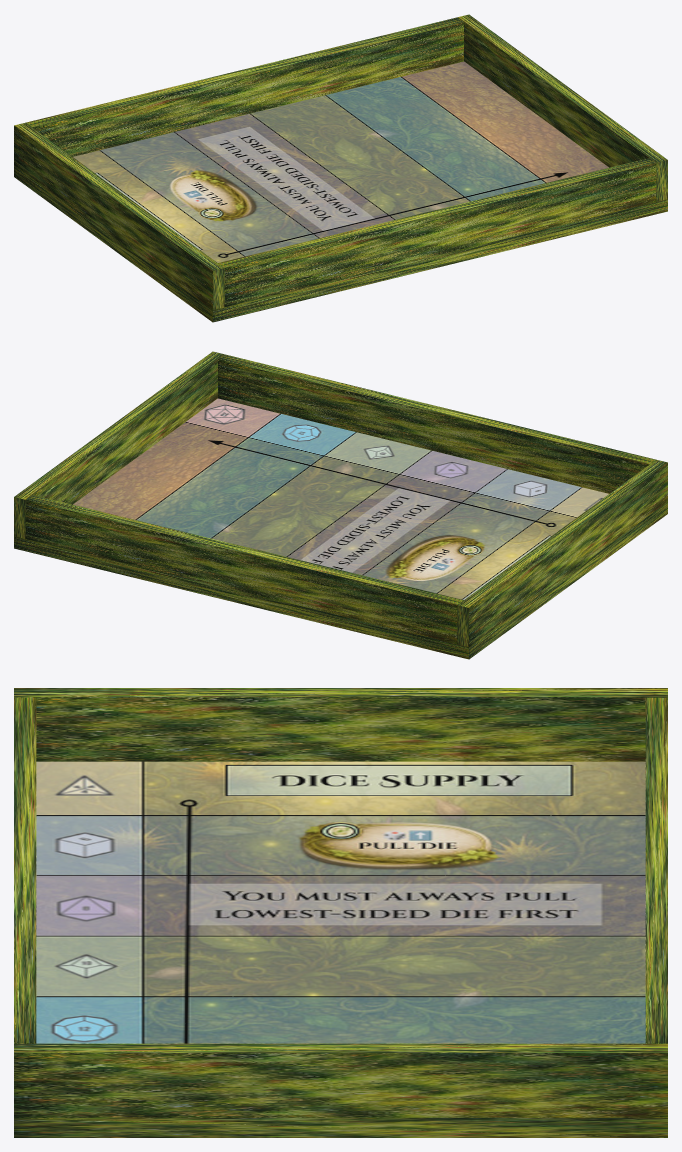
File: Player_Box_Base.obj
3 views of the same model, one above another, from view 1: azimuth 30°, elevation 25°; view 2: azimuth 150°, elevation 25°; view 3: azimuth 270°, elevation 25° (orthographic). The views are drawn at different scales.
Parts seen in each view (by area): view 1: Player_Box_Base; view 2: Player_Box_Base; view 3: Player_Box_Base.
Part boxes in pixels (left/top/right/bottom): Player_Box_Base: left=14, top=14, right=667, bottom=322; Player_Box_Base: left=14, top=351, right=667, bottom=659; Player_Box_Base: left=14, top=688, right=667, bottom=1137.
Size of the model in its own units: 6.75 by 0.73 by 5.11.
1 material, 1 textured.
